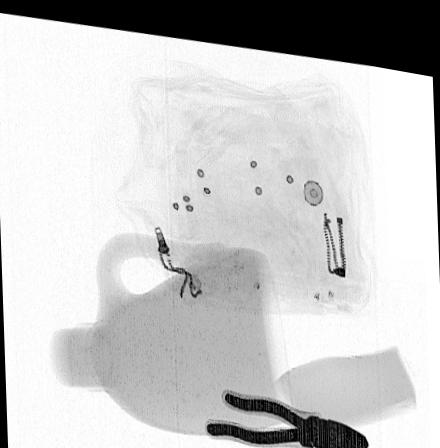Pliers: (204, 380, 370, 440)
